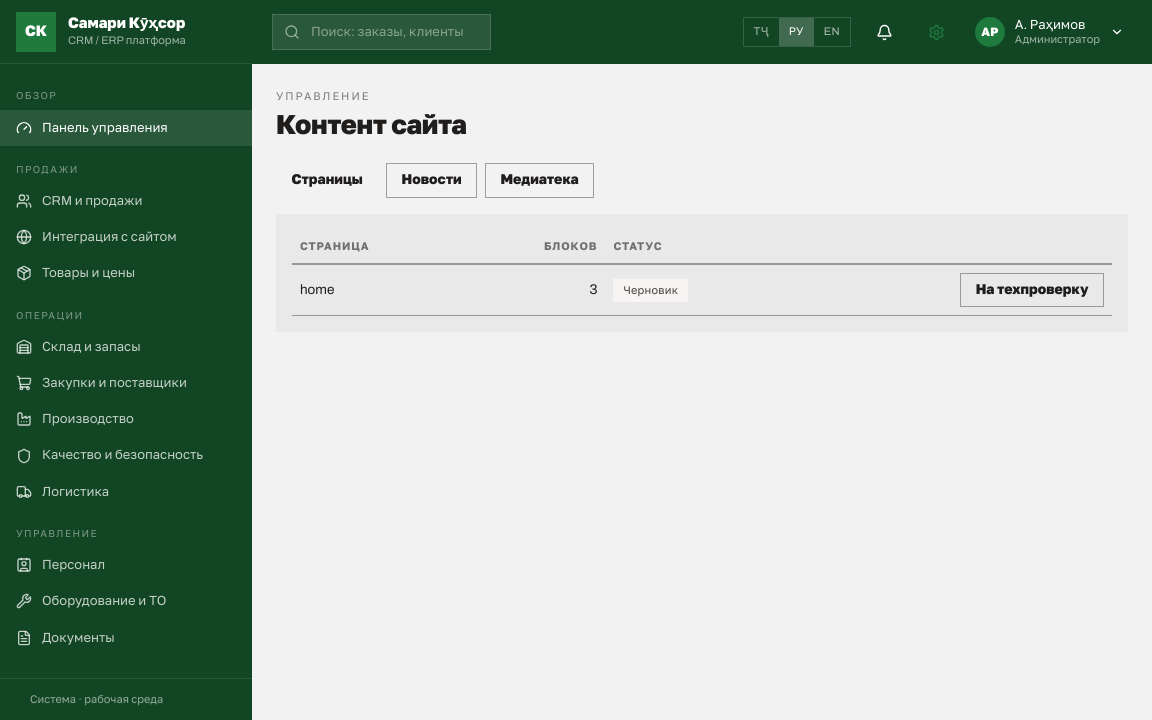
Scenario: news › marks a fully translated post as complete
The width and height of the screenshot is (1152, 720).
Click the tab "Новости": x=432, y=180 [386,163,477,198]
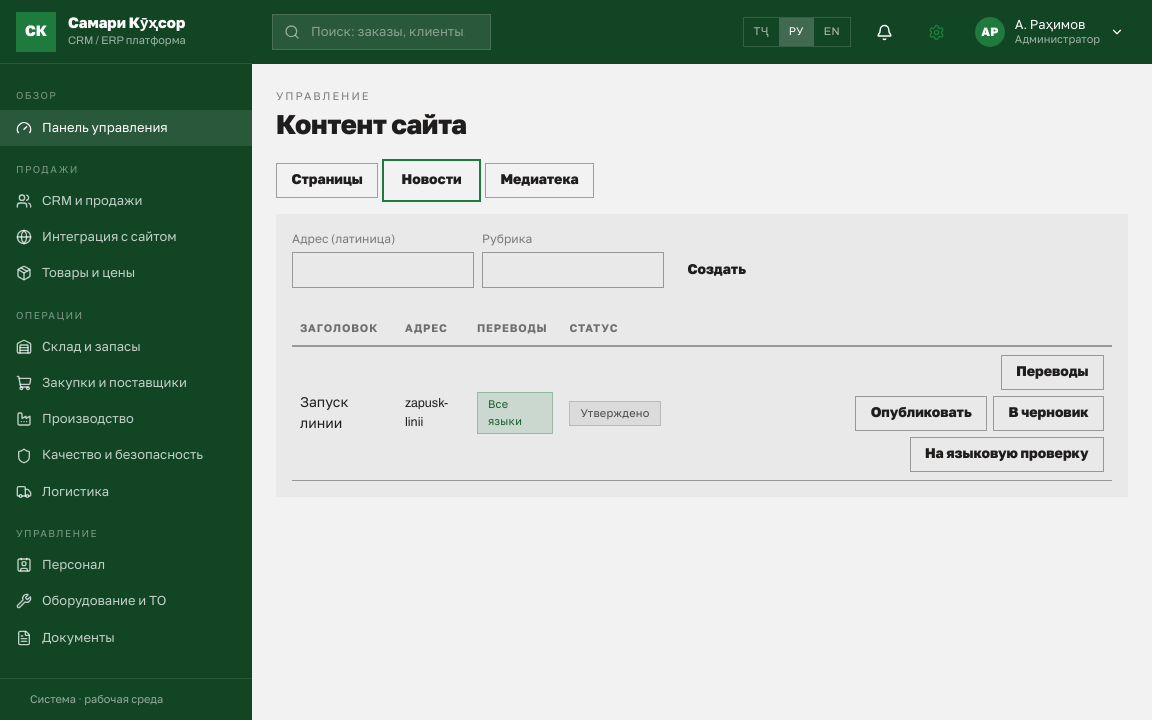
Expected: the text "Все языки" is shown, [477,392,553,434]
